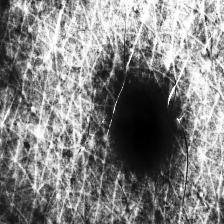Benign Marking or Mole: (116, 87, 168, 173)
